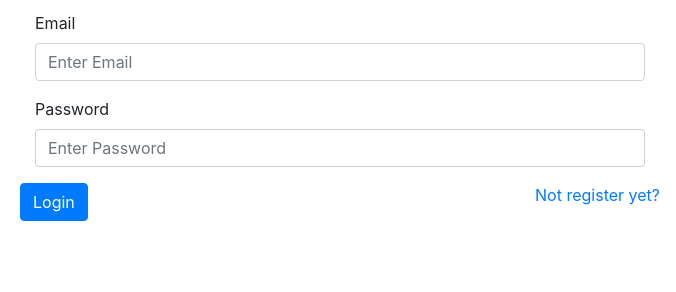
Scenario: Login component › login attempt › Should not login if email is not exist, rendering corresponse error message
In the field labelled "Email": (340, 62) x1=35 y1=43 x2=645 y2=81, type "notexistuser@gmail.com"
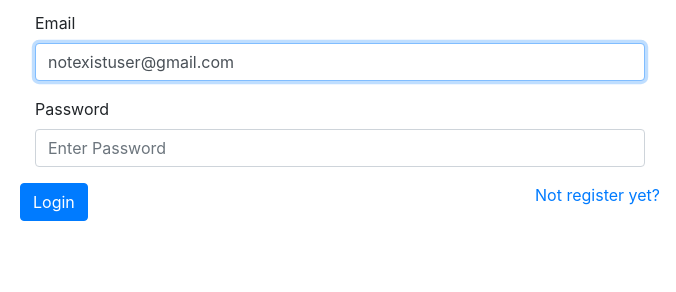
In the password field labelled "Password": (340, 148) x1=35 y1=129 x2=645 y2=167, type "123123"
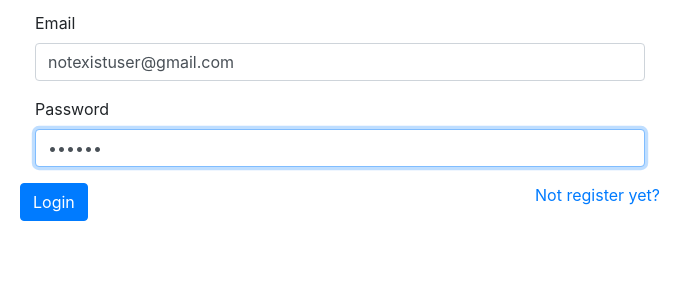
Click the button "Login": (54, 202) x1=20 y1=183 x2=88 y2=221
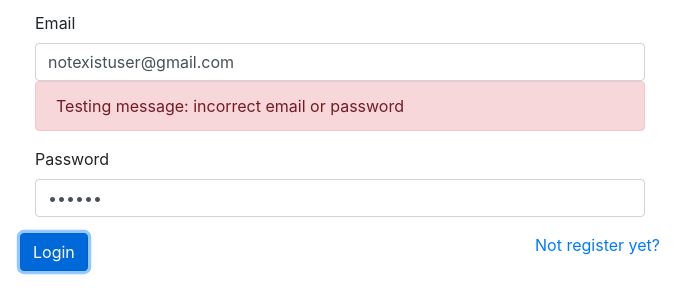
Expected: the message "Testing message: incorrect email or password" is shown, x1=35 y1=81 x2=645 y2=131
